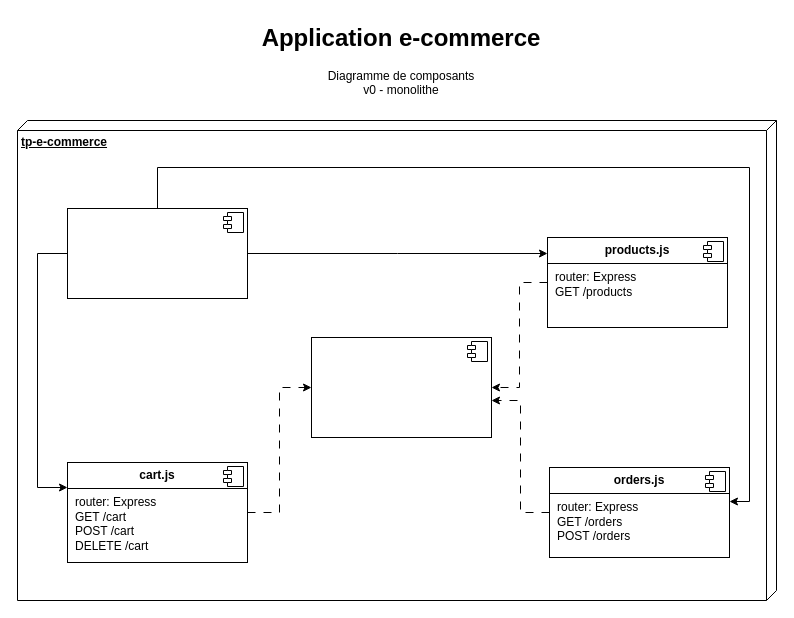
This 794x618 diagram has some shape labels left out. Each missing label, with the box of its shape:
index.js app: Express server.listen(): (66, 208, 248, 298)
state.js products: [] cart: [] orders: [] nextOrderId: int: (310, 336, 492, 438)
